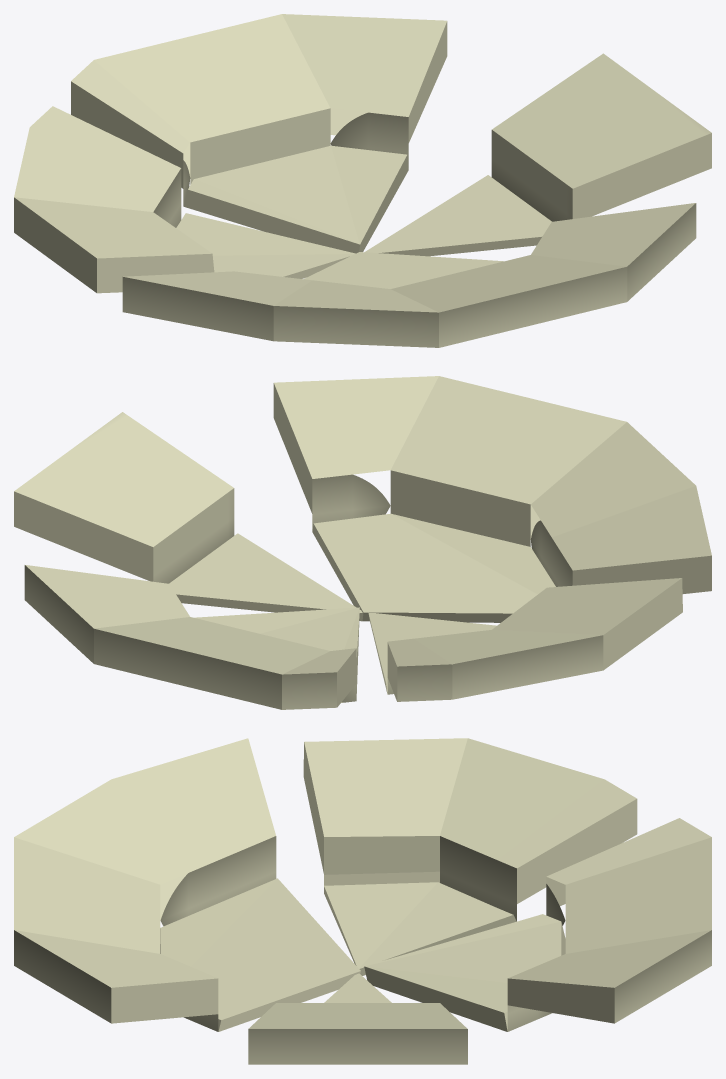
Rendered from PlateParts.fbx.
The picture shows the model from 3 angles, top to bottom: view 1: azimuth 30°, elevation 25°; view 2: azimuth 150°, elevation 25°; view 3: azimuth 270°, elevation 25°; orthographic projection.
Parts seen in each view (by area): view 1: Plate, Plate_selection, Plate_selection_selection; view 2: Plate, Plate_selection, Plate_selection_selection; view 3: Plate, Plate_selection_selection, Plate_selection.
Part boxes in pixels (x1,y1,x2,y2): Plate: [71, 14, 696, 347]; Plate_selection: [364, 53, 711, 256]; Plate_selection_selection: [14, 106, 355, 293]; Plate: [24, 376, 711, 709]; Plate_selection: [14, 412, 362, 621]; Plate_selection_selection: [368, 578, 682, 701]; Plate: [14, 738, 711, 1031]; Plate_selection_selection: [303, 738, 637, 975]; Plate_selection: [248, 973, 467, 1064].
Size of the model in its own units: 54.42 by 8.77 by 55.2.
Materials: 1 (1 with a texture image).
